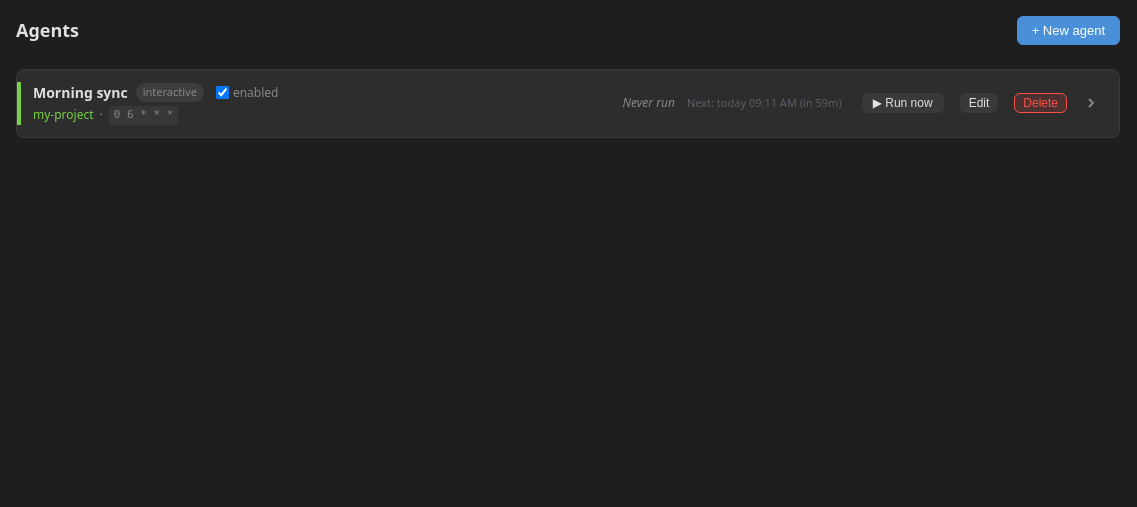
Test case: AC#6: Recent runs limited to 5 › only shows up to 5 runs when more are available
The image size is (1137, 507).
Click the text "Morning sync".
click(80, 92)  # box [33,82,128,103]
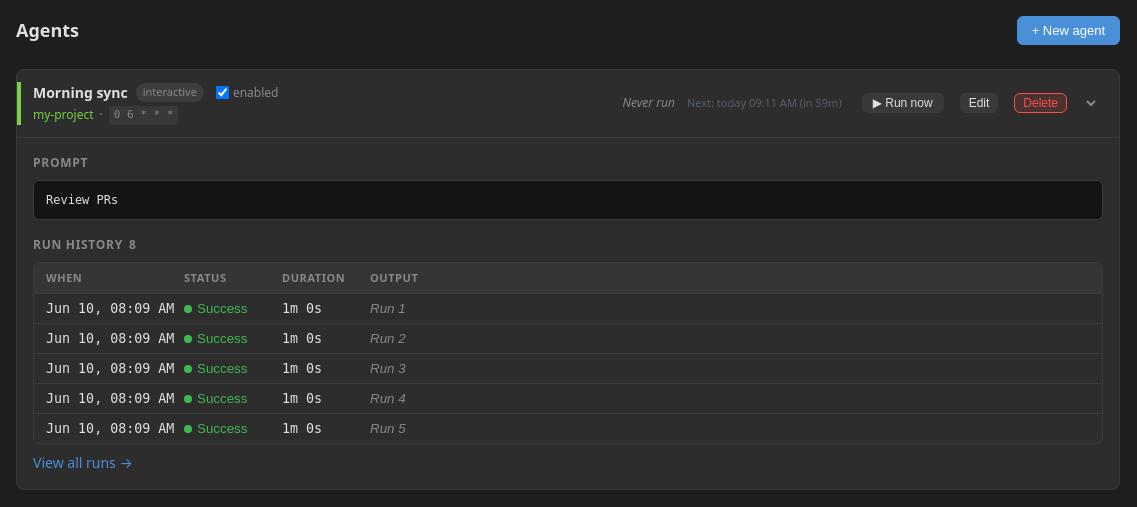
Check: the link with test id "view-all-runs-link" is shown, box [33,453,133,472]
Check: the text "Run 1" is shown, box [370,301,406,316]
Check: the text "Run 5" is shown, box [370,421,406,436]
